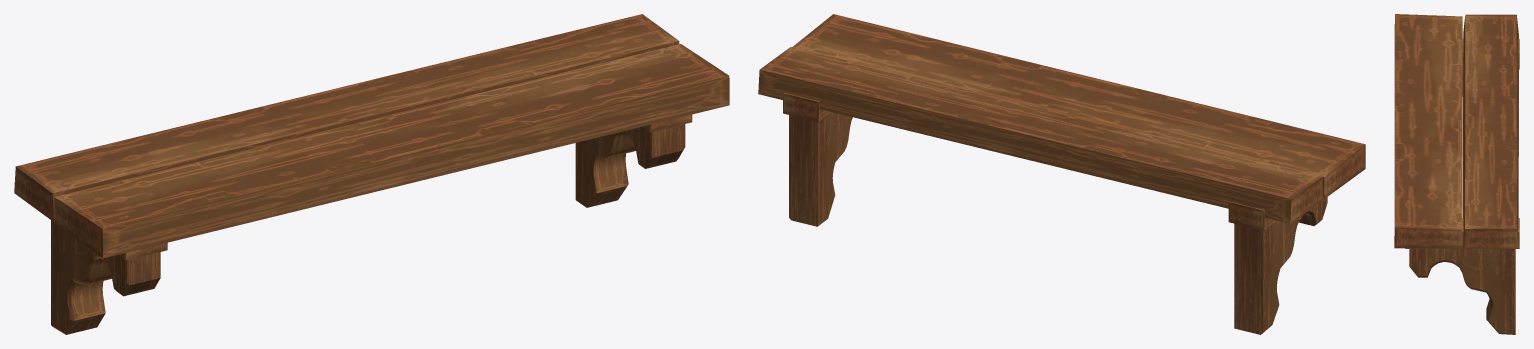
File: Shelf_Simple.glb
The picture shows the model from 3 angles, left to right: view 1: azimuth 30°, elevation 25°; view 2: azimuth 150°, elevation 25°; view 3: azimuth 270°, elevation 25°; orthographic projection. The views are drawn at different scales.
Parts seen in each view (by area): view 1: Shelf_Simple; view 2: Shelf_Simple; view 3: Shelf_Simple.
Boxes of the visible parts, x1,y1,x2,y2 form: Shelf_Simple: [14, 14, 729, 334]; Shelf_Simple: [758, 14, 1365, 334]; Shelf_Simple: [1394, 14, 1519, 334].
Size of the model in its own units: 1.18 by 0.3087 by 0.2922.
Materials: 1 (1 with a texture image).
